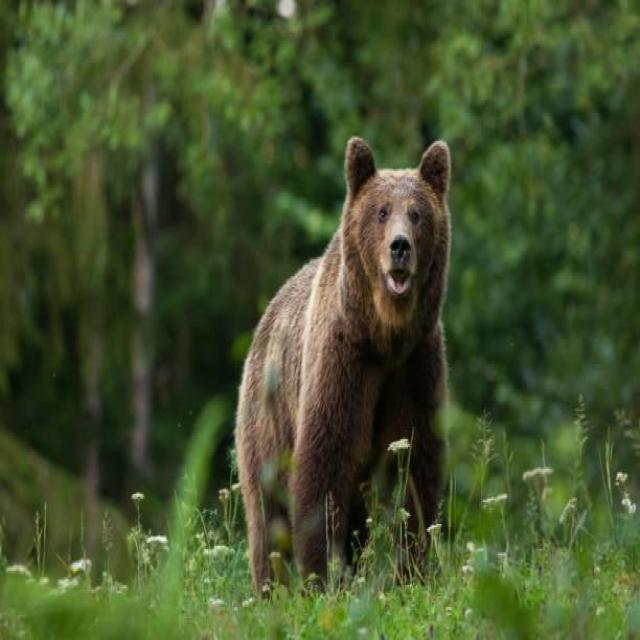Bear: (233, 138, 452, 601)
